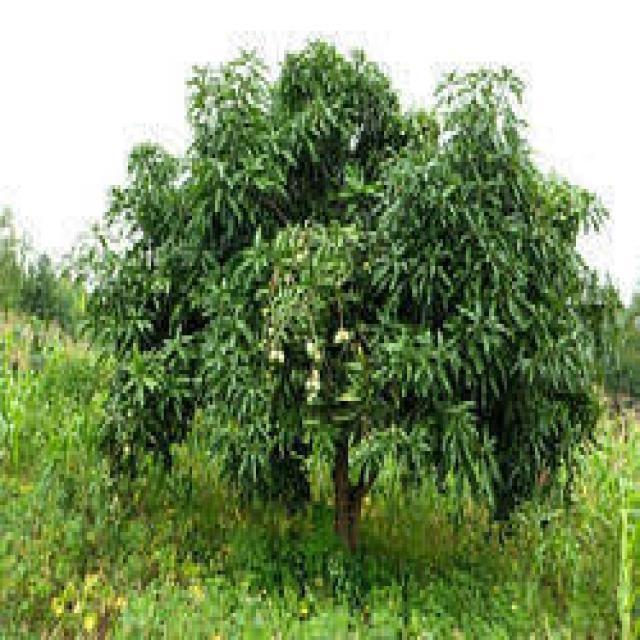Tree: (99, 26, 598, 584)
